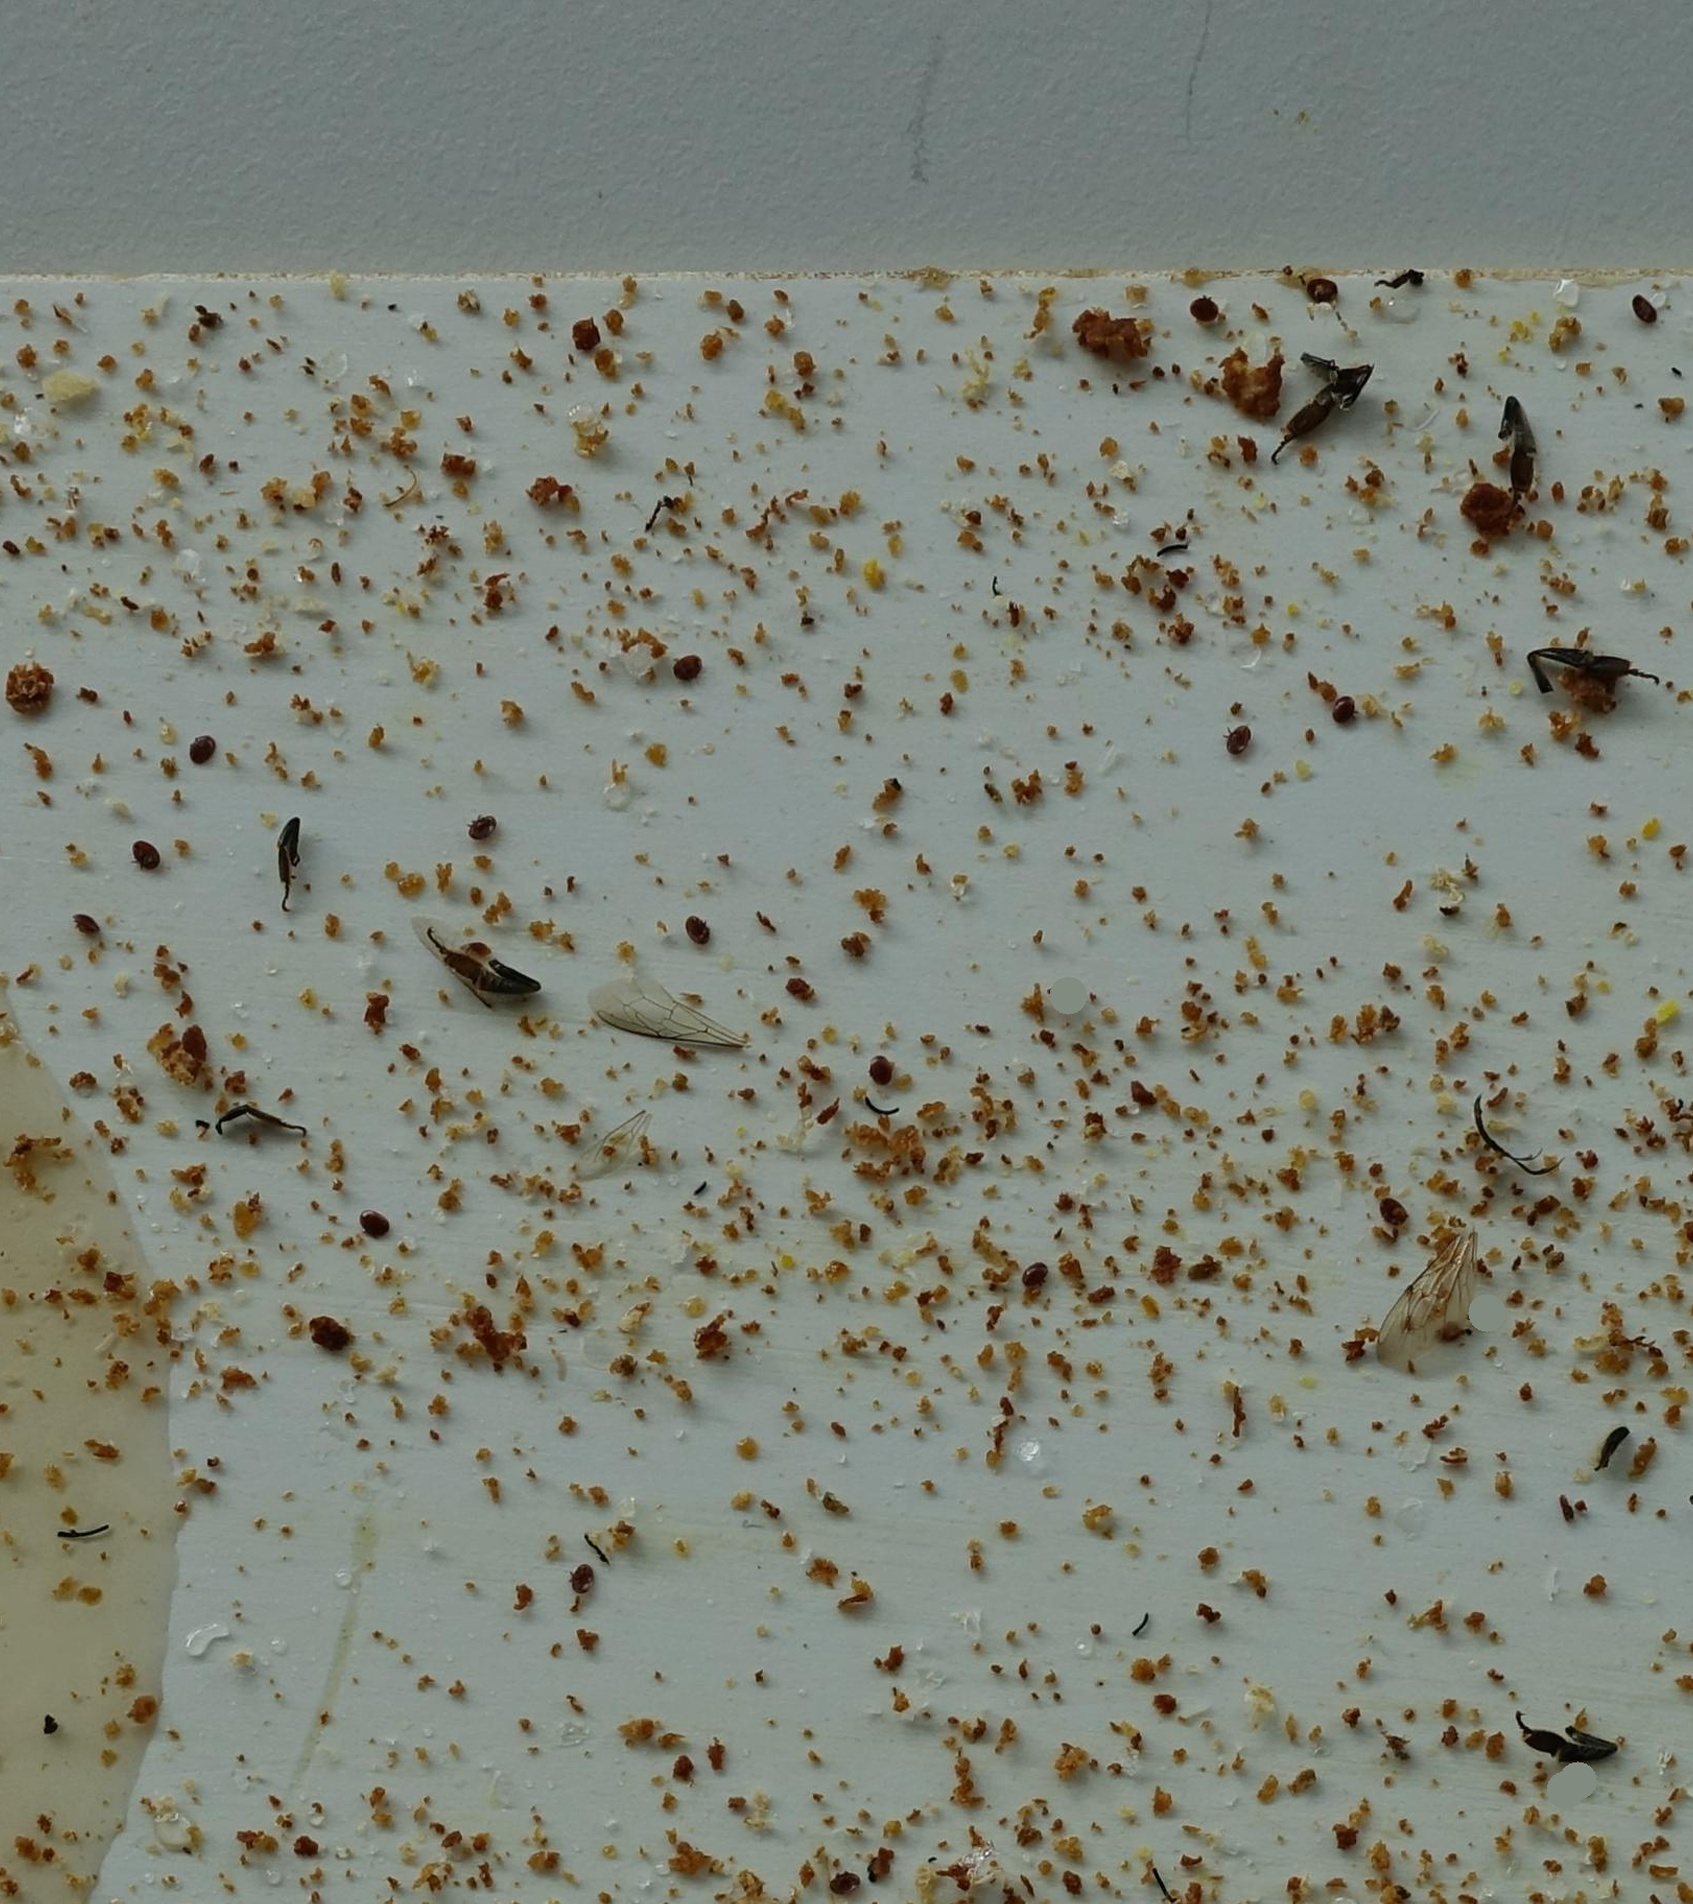Varroa: (462, 819, 492, 848), (72, 914, 100, 940), (570, 1564, 598, 1589), (685, 918, 711, 943), (1311, 278, 1335, 302), (136, 842, 160, 866), (1634, 297, 1657, 324), (833, 1870, 856, 1896), (1371, 1209, 1397, 1232), (1023, 1263, 1048, 1286), (190, 739, 212, 763), (364, 1213, 387, 1236), (1234, 731, 1257, 752), (1193, 297, 1214, 319), (873, 1056, 892, 1079), (1337, 704, 1351, 721), (677, 667, 690, 682)
